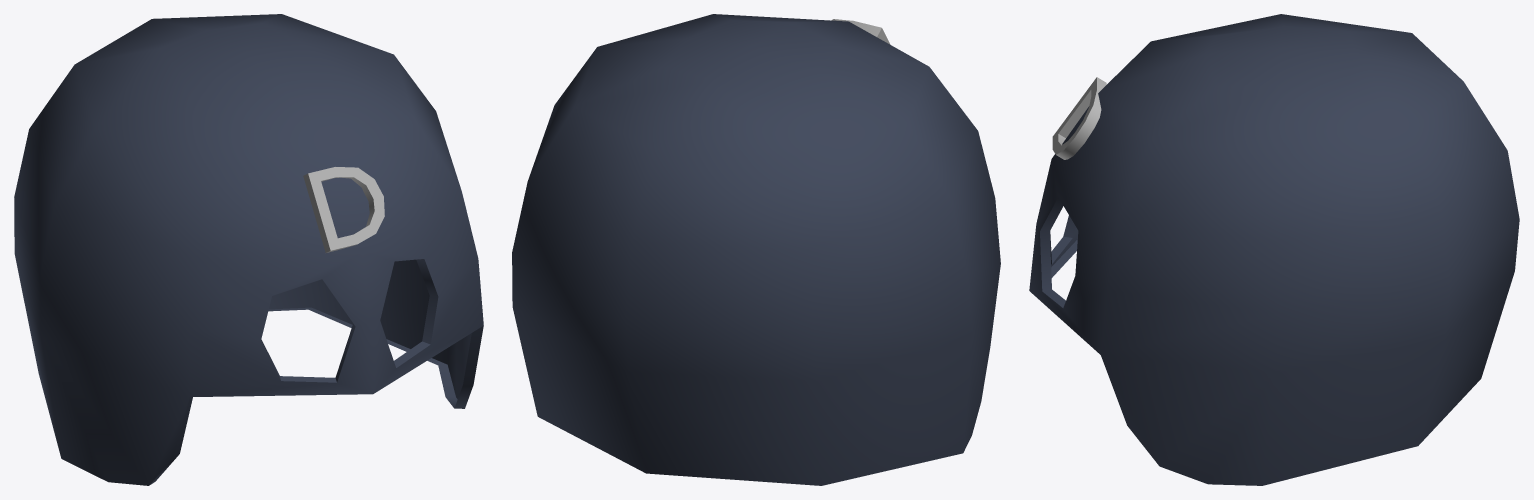
File: DuckTankHelm.fbx
The picture shows the model from 3 angles, left to right: view 1: azimuth 30°, elevation 25°; view 2: azimuth 150°, elevation 25°; view 3: azimuth 270°, elevation 25°; orthographic projection. The views are drawn at different scales.
Parts seen in each view (by area): view 1: DuckTank.001; view 2: DuckTank.001; view 3: DuckTank.001.
Part boxes in pixels (x1=…): DuckTank.001: x1=14, y1=14, x2=483, y2=485; DuckTank.001: x1=512, y1=14, x2=1000, y2=485; DuckTank.001: x1=1029, y1=14, x2=1519, y2=485.
Size of the model in its own units: 67.23 by 55.47 by 69.89.
